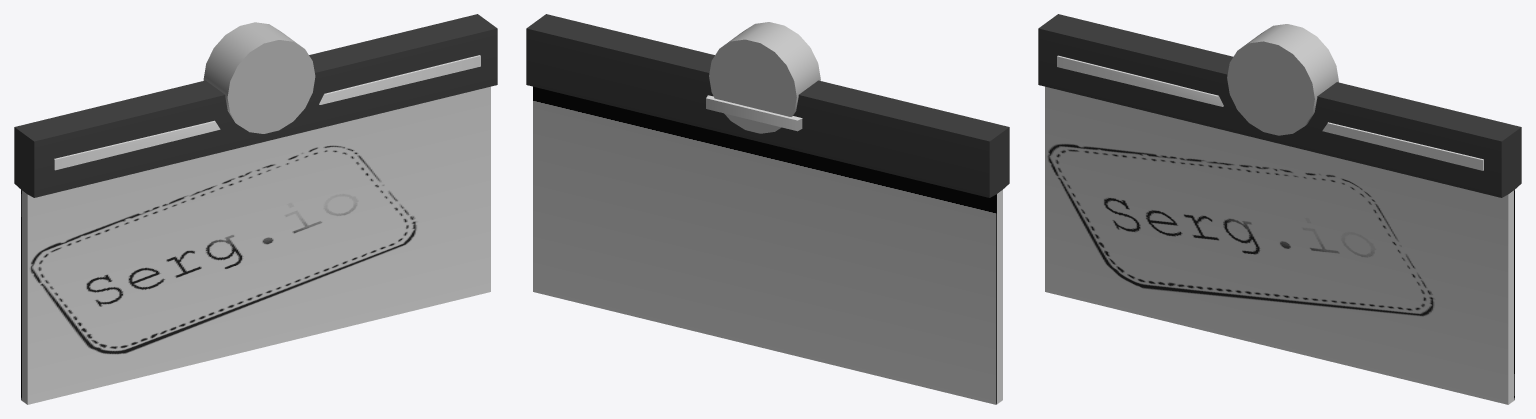
The model's file is NPCNameTag2.fbx.
3 renders of one model, left to right at view 1: azimuth 30°, elevation 25°; view 2: azimuth 150°, elevation 25°; view 3: azimuth 330°, elevation 25°, orthographic.
Visible parts, largest first — view 1: NameTag, LED; view 2: NameTag, LED; view 3: NameTag, LED.
Part boxes in pixels (x1,y1,x2,y2): NameTag: [14, 14, 497, 404]; LED: [54, 55, 480, 170]; NameTag: [526, 14, 1009, 404]; LED: [706, 95, 802, 131]; NameTag: [1038, 14, 1521, 404]; LED: [1057, 55, 1483, 170].
Bounding box in the file's own units: 0.0687 × 0.0443 × 0.00666.
